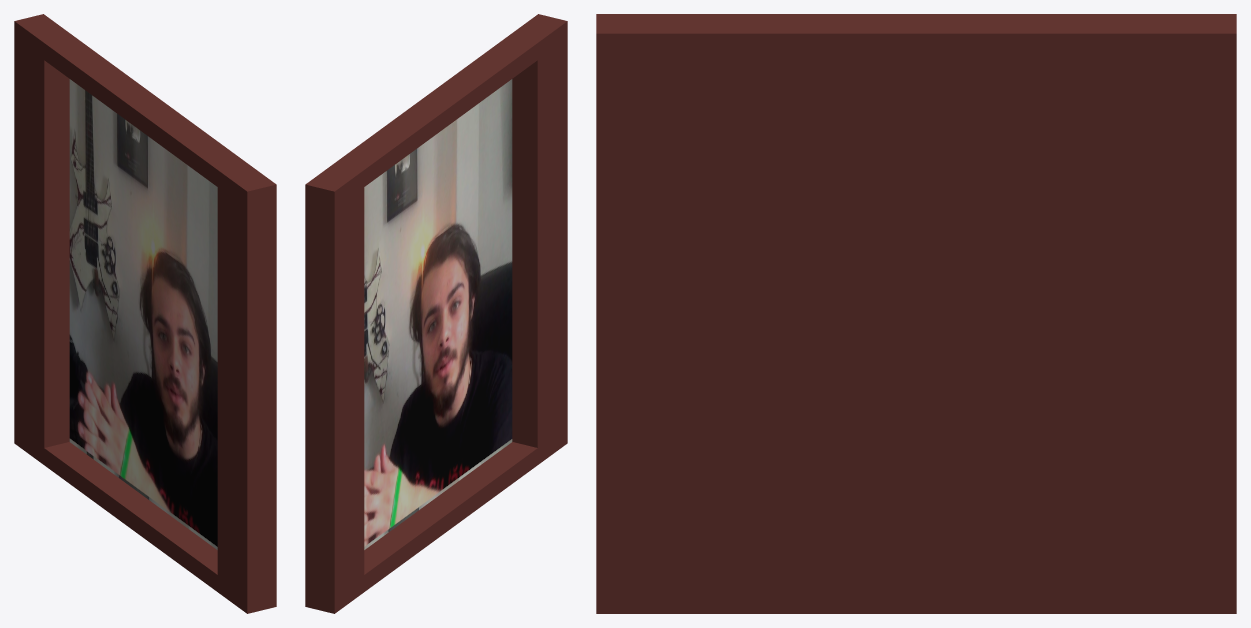
Rendered from Portrait9.fbx.
The picture shows the model from 3 angles, left to right: view 1: azimuth 30°, elevation 25°; view 2: azimuth 150°, elevation 25°; view 3: azimuth 270°, elevation 25°; orthographic projection. The views are drawn at different scales.
Visible parts, largest first — view 1: Cube.109; view 2: Cube.109; view 3: Cube.109.
Boxes of the visible parts, x1,y1,x2,y2 form: Cube.109: (14, 14, 276, 613); Cube.109: (305, 14, 567, 613); Cube.109: (596, 14, 1236, 613).
Size of the model in its own units: 23.48 by 324 by 324.
